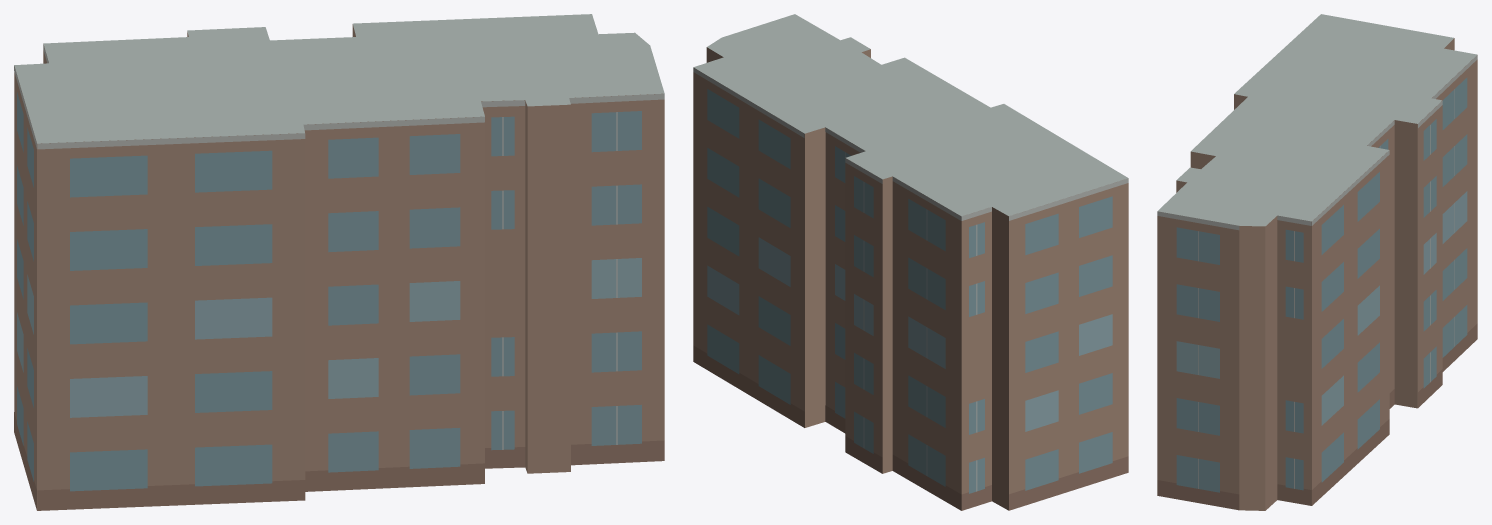
Rendered from survey-upis-32816545.glb.
The picture shows the model from 3 angles, left to right: view 1: azimuth 30°, elevation 25°; view 2: azimuth 150°, elevation 25°; view 3: azimuth 270°, elevation 25°; orthographic projection. The views are drawn at different scales.
Parts seen in each view (by area): view 1: survey-upis-32816545.tmp; view 2: survey-upis-32816545.tmp; view 3: survey-upis-32816545.tmp.
Boxes of the visible parts, x1=… form: survey-upis-32816545.tmp: x1=14, y1=14, x2=664, y2=510; survey-upis-32816545.tmp: x1=693, y1=14, x2=1128, y2=510; survey-upis-32816545.tmp: x1=1157, y1=14, x2=1477, y2=510.
Size of the model in its own units: 24.43 by 15.25 by 15.57.
